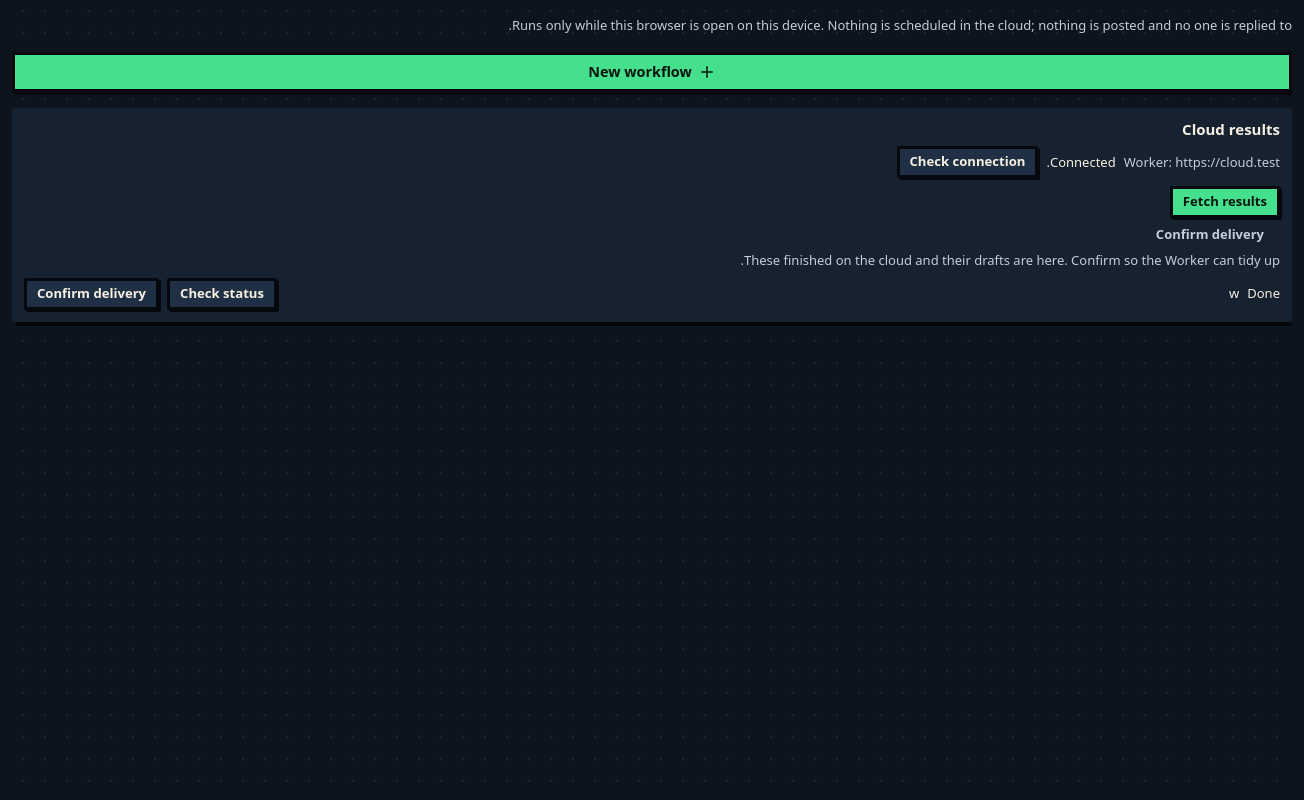
Test case: Cloud results card › Check status per proof: one check(key) per click; retired and refusal copy
Click the button "Check status" at (222, 294), box [167,278,277,310]
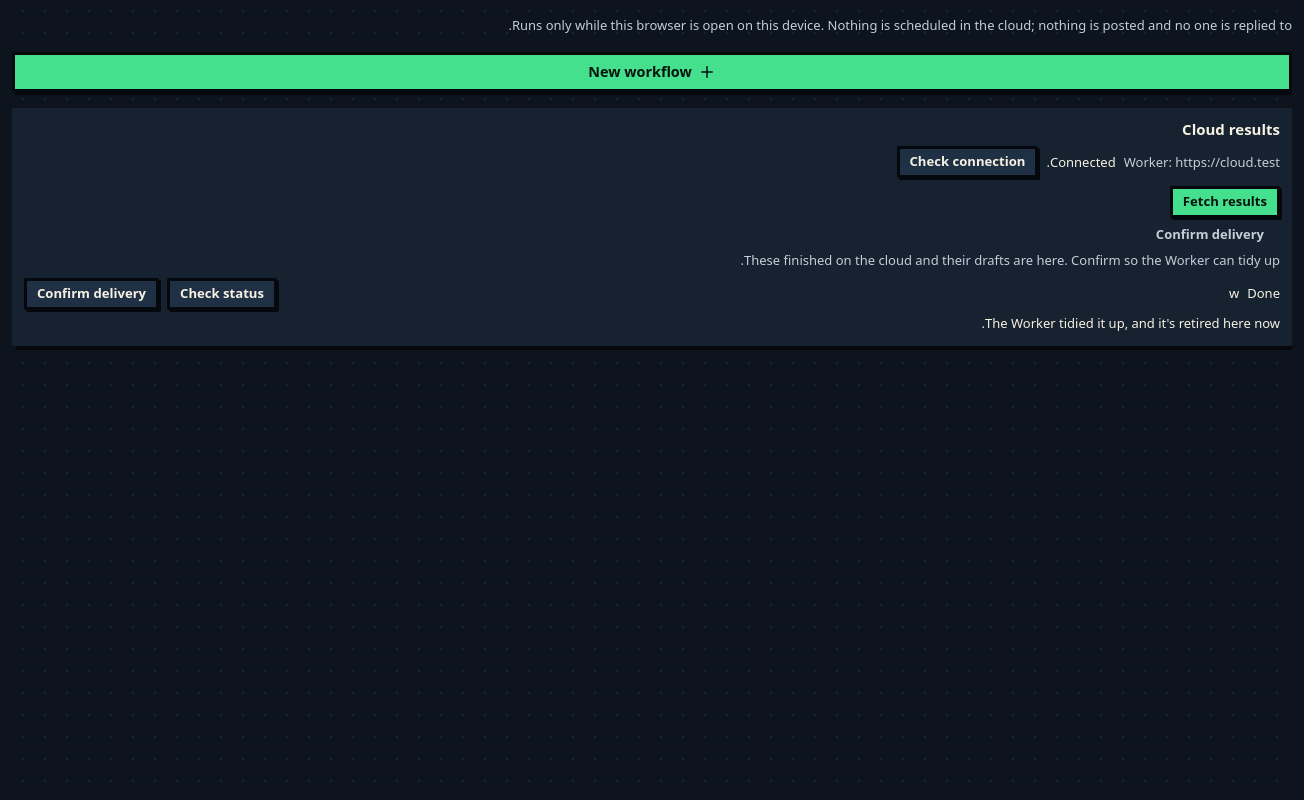
Expected: the message "The Worker tidied it up, and it's retired here now." is shown, [982,314,1280,332]
Click the button "Check status" at (222, 294), box [167,278,277,310]
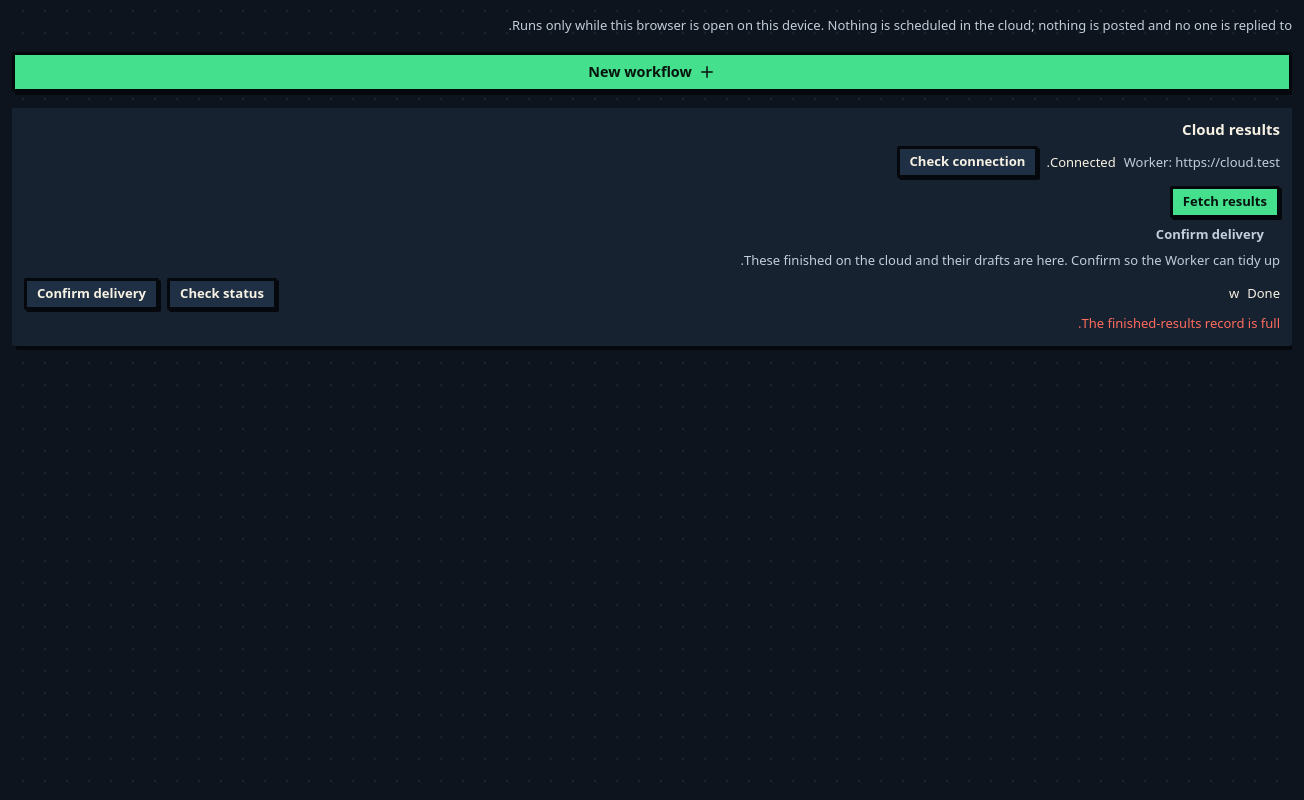
Expected: the message "The finished-results record is full." is shown, [1078,314,1280,332]
